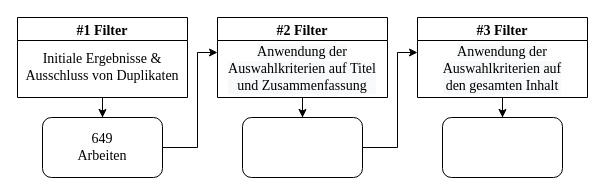
The diagram is 605 pixels wide and 195 high, and some of its shapes have lost their labels. Here are the shapes that lost their labels. From the top down, the centre of each, then its label:
At [302,147]: "162 Arbeiten".
At [502,147]: "47 Arbeiten".
